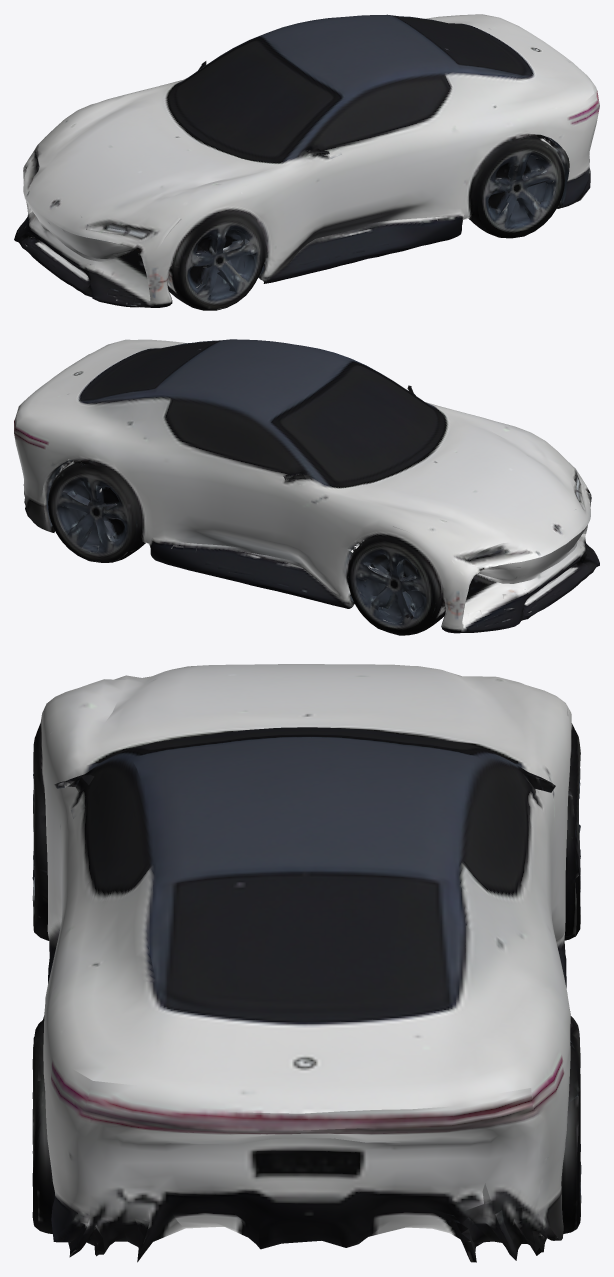
Rendered from car_sport_fixed.glb.
3 views of the same model, one above another, from view 1: azimuth 30°, elevation 25°; view 2: azimuth 150°, elevation 25°; view 3: azimuth 270°, elevation 25° (orthographic). The views are drawn at different scales.
Parts seen in each view (by area): view 1: Mesh0; view 2: Mesh0; view 3: Mesh0.
Boxes of the visible parts, box(x1,y1,x2,y2) form: Mesh0: box(14, 14, 599, 310); Mesh0: box(14, 339, 599, 635); Mesh0: box(32, 664, 581, 1262).
Bounding box in the file's own units: 1.91 × 0.6087 × 0.8758.
Materials: 1 (1 with a texture image).
